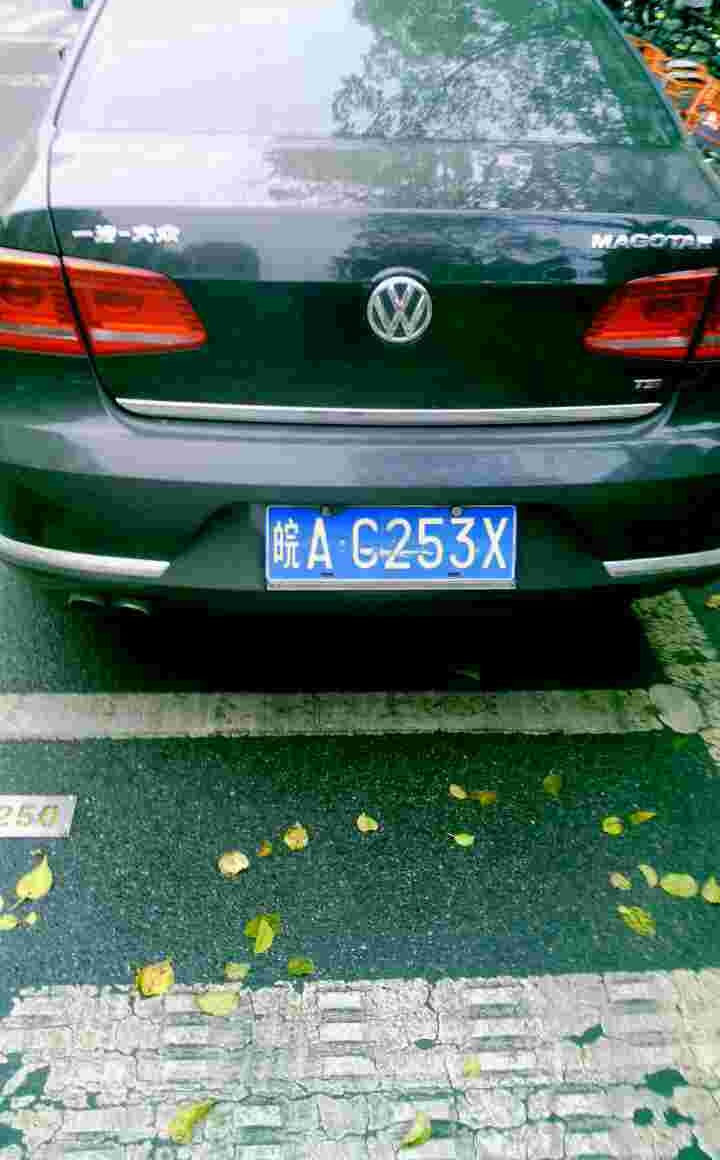car: (257, 500, 522, 585)
